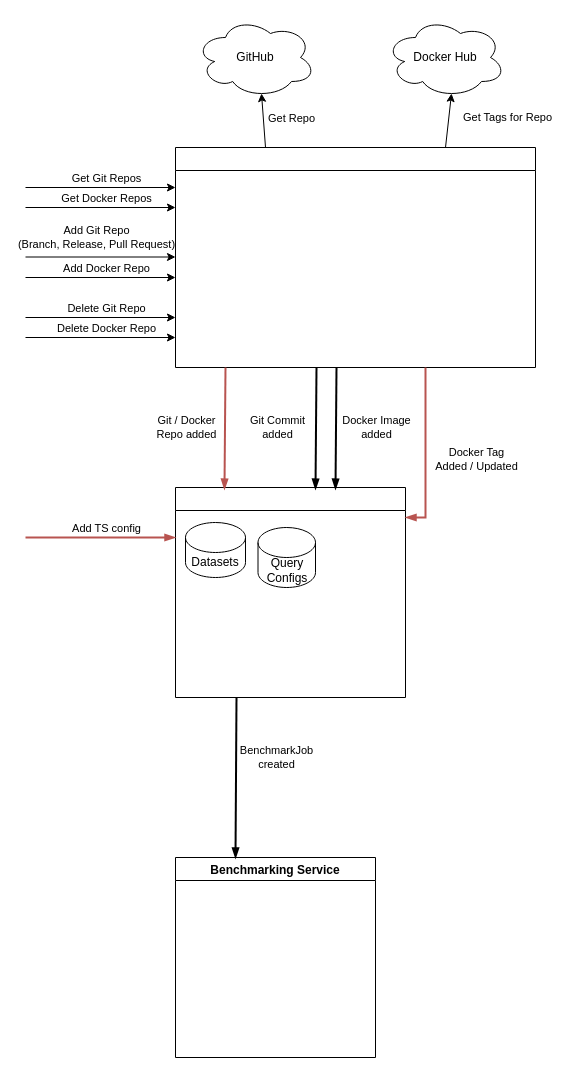
This 569x1075 diagram has some shape labels left out. The box of each missing label's shape, as (x1, y1, x2, y2) in pixels:
Hooks Checking Service: (174, 146, 536, 368)
Jobs Managing Service: (174, 486, 406, 698)
